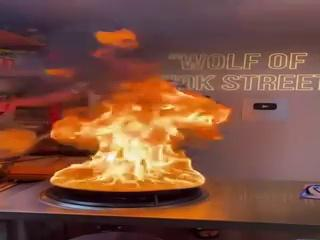Fire: (34, 65, 212, 194)
